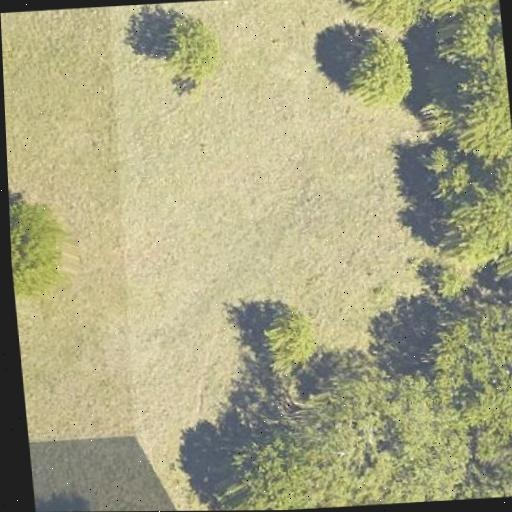tree-top: (219, 366, 473, 510), (433, 306, 512, 446), (328, 25, 423, 118), (147, 11, 237, 101), (8, 190, 73, 300), (447, 74, 512, 161), (446, 182, 512, 266), (258, 306, 325, 379), (438, 5, 498, 67), (465, 427, 512, 499), (339, 0, 430, 37), (420, 143, 477, 201), (422, 254, 466, 299), (426, 0, 473, 17)
